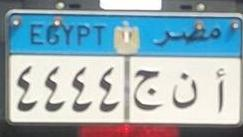4: (69, 65, 94, 114), (42, 62, 66, 113), (15, 63, 39, 114), (96, 65, 120, 114)
alif: (211, 66, 229, 116)
jeem: (131, 67, 164, 112)
noon: (170, 71, 199, 113)
